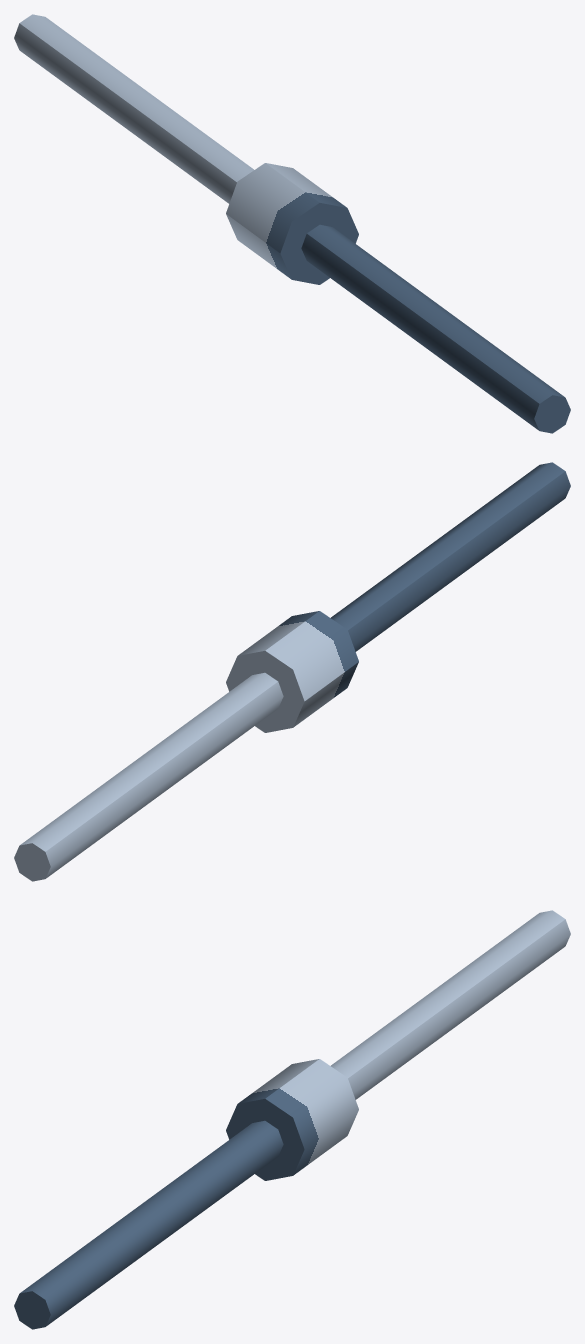
File: Carte_Caño_Perfil.fbx
3 renders of one model, top to bottom at view 1: azimuth 30°, elevation 25°; view 2: azimuth 150°, elevation 25°; view 3: azimuth 330°, elevation 25°, orthographic.
Visible parts, largest first — view 1: Carte_Caño_Perfil; view 2: Carte_Caño_Perfil; view 3: Carte_Caño_Perfil.
Boxes of the visible parts, bbox=[...] form: Carte_Caño_Perfil: bbox=[14, 14, 570, 433]; Carte_Caño_Perfil: bbox=[14, 462, 570, 881]; Carte_Caño_Perfil: bbox=[14, 910, 570, 1329].
Bounding box in the file's own units: 283 × 283 × 3234.
